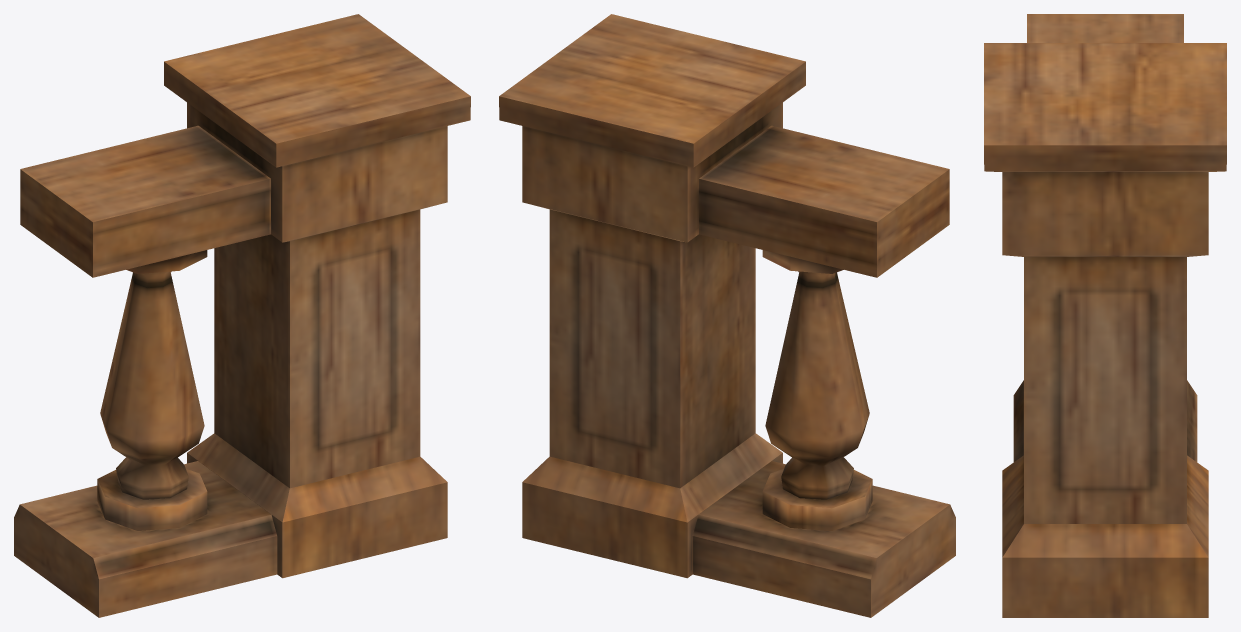
File: EP1_WoodHandRail_edge.fbx
3 renders of one model, left to right at view 1: azimuth 30°, elevation 25°; view 2: azimuth 150°, elevation 25°; view 3: azimuth 270°, elevation 25°, orthographic. The views are drawn at different scales.
Visible parts, largest first — view 1: EP1_WoodHandRail_edge; view 2: EP1_WoodHandRail_edge; view 3: EP1_WoodHandRail_edge.
Boxes of the visible parts, x1,y1,x2,y2 form: EP1_WoodHandRail_edge: (14, 14, 470, 617); EP1_WoodHandRail_edge: (499, 14, 955, 617); EP1_WoodHandRail_edge: (984, 14, 1226, 617).
Size of the model in its own units: 0.6865 by 0.8139 by 0.373.
1 material, 1 textured.
